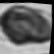correct: (0, 0, 54, 51)
